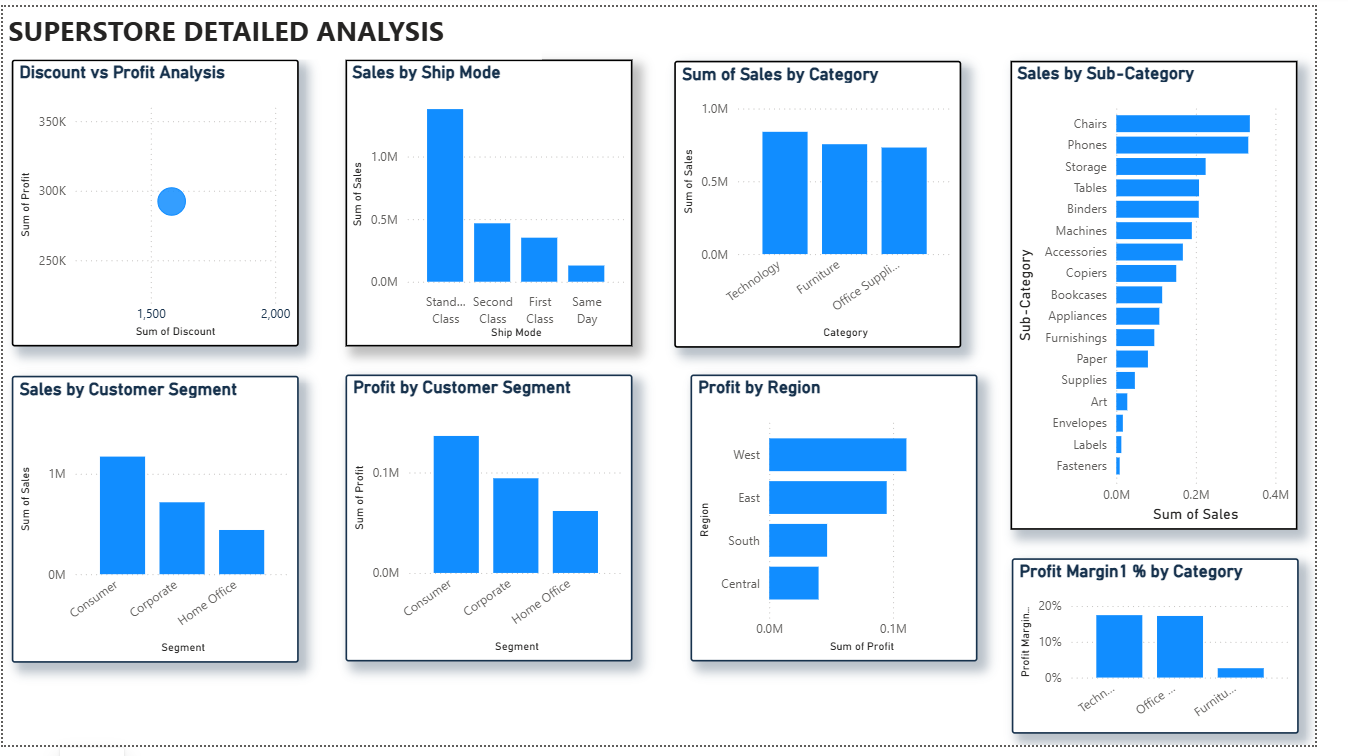

The page's visual inventory and layout, read from the dashboard file:
{"tool":"powerbi","page":{"name":"Page 2","canvas":[1280,720],"ordinal":1},"visuals":[{"type":"scatterChart","title":"Discount vs Profit Analysis","fields":{"Size":["Sum(superstore_mysql.Sales)"],"X":["Sum(superstore_mysql.Discount)"],"Y":["Sum(superstore_mysql.Profit)"]},"box":[8.6,51.4,280,280],"z":0},{"type":"clusteredColumnChart","title":"Sales by Customer Segment","fields":{"Category":["superstore_mysql.Segment"],"Y":["Sum(superstore_mysql.Sales)"]},"box":[8.6,359.5,280,280],"z":1000},{"type":"clusteredColumnChart","title":"Sales by Ship Mode","fields":{"Category":["superstore_mysql.Ship Mode"],"Y":["Sum(superstore_mysql.Sales)"]},"box":[333.8,51.4,280,280],"z":2000},{"type":"clusteredColumnChart","title":"Profit by Customer Segment","fields":{"Category":["superstore_mysql.Segment"],"Y":["Sum(superstore_mysql.Profit)"]},"box":[333.8,358.3,280,280],"z":3000},{"type":"clusteredColumnChart","fields":{"Category":["superstore_mysql.Category"],"Y":["Sum(superstore_mysql.Sales)"]},"box":[655.4,52.6,280,280],"z":4000},{"type":"clusteredBarChart","title":"Profit by Region","fields":{"Category":["superstore_mysql.Region"],"Y":["Sum(superstore_mysql.Profit)"]},"box":[671.3,358.3,280,280],"z":5000},{"type":"clusteredBarChart","title":"Sales by Sub-Category","fields":{"Category":["superstore_mysql.Sub-Category"],"Y":["Sum(superstore_mysql.Sales)"]},"box":[983.2,52.6,280,457.3],"z":6000},{"type":"clusteredColumnChart","fields":{"Category":["superstore_mysql.Category"],"Y":["superstore_mysql.Profit Margin1 %"]},"box":[984.4,538,280,171],"z":7000},{"type":"textbox","box":[0,0,525.8,51.4],"z":7001}]}

Visuals, with their boxes in screenshot pixels (x1, y1, x2, y2), scaled from the page's 1280x720 canvas onto the 1348x756 screenshot:
"Discount vs Profit Analysis" scatterChart: region(9, 54, 304, 348)
"Sales by Customer Segment" clusteredColumnChart: region(9, 377, 304, 671)
"Sales by Ship Mode" clusteredColumnChart: region(352, 54, 646, 348)
"Profit by Customer Segment" clusteredColumnChart: region(352, 376, 646, 670)
clusteredColumnChart - superstore_mysql.Category x Sum(superstore_mysql.Sales): region(690, 55, 985, 349)
"Profit by Region" clusteredBarChart: region(707, 376, 1002, 670)
"Sales by Sub-Category" clusteredBarChart: region(1035, 55, 1330, 535)
clusteredColumnChart - superstore_mysql.Category x superstore_mysql.Profit Margin1 %: region(1037, 565, 1332, 744)
textbox: region(0, 0, 554, 54)
